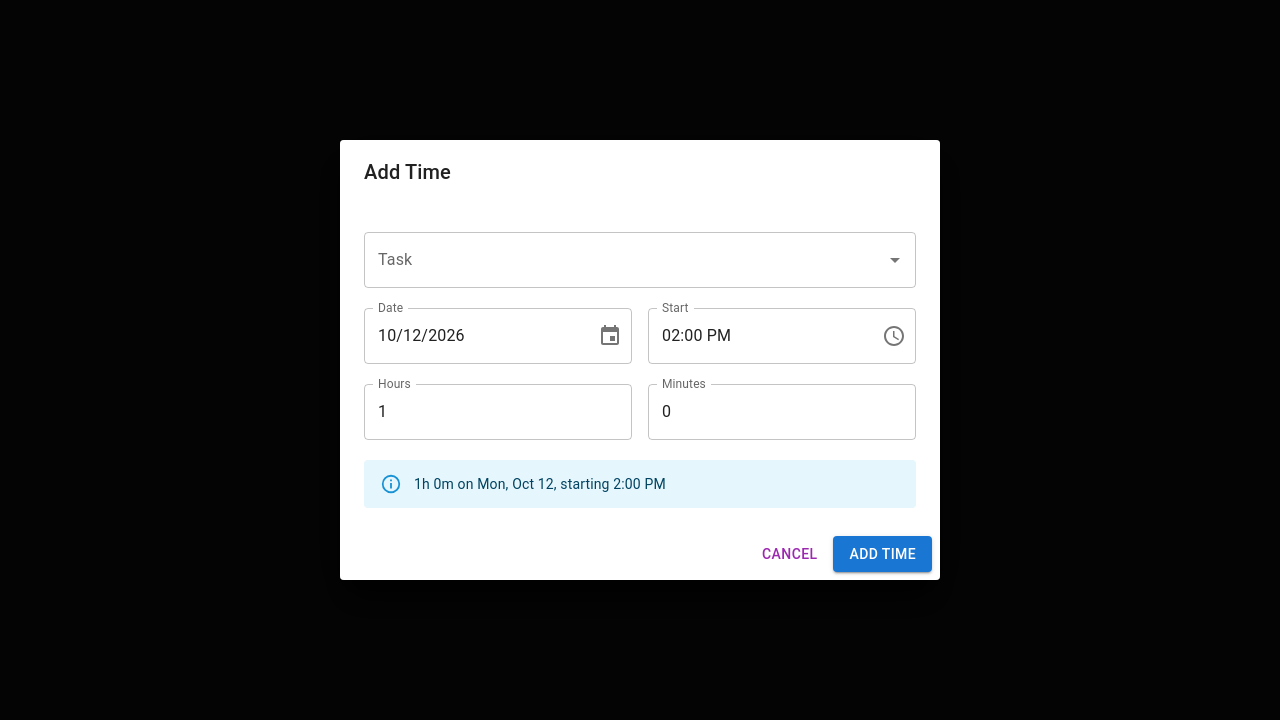
Scenario: AddTimeDialog › shows the reason in place when the entry is refused
Press the mouse on the dropdown labelled "Task" at x=625, y=260, box [373, 241, 877, 279]
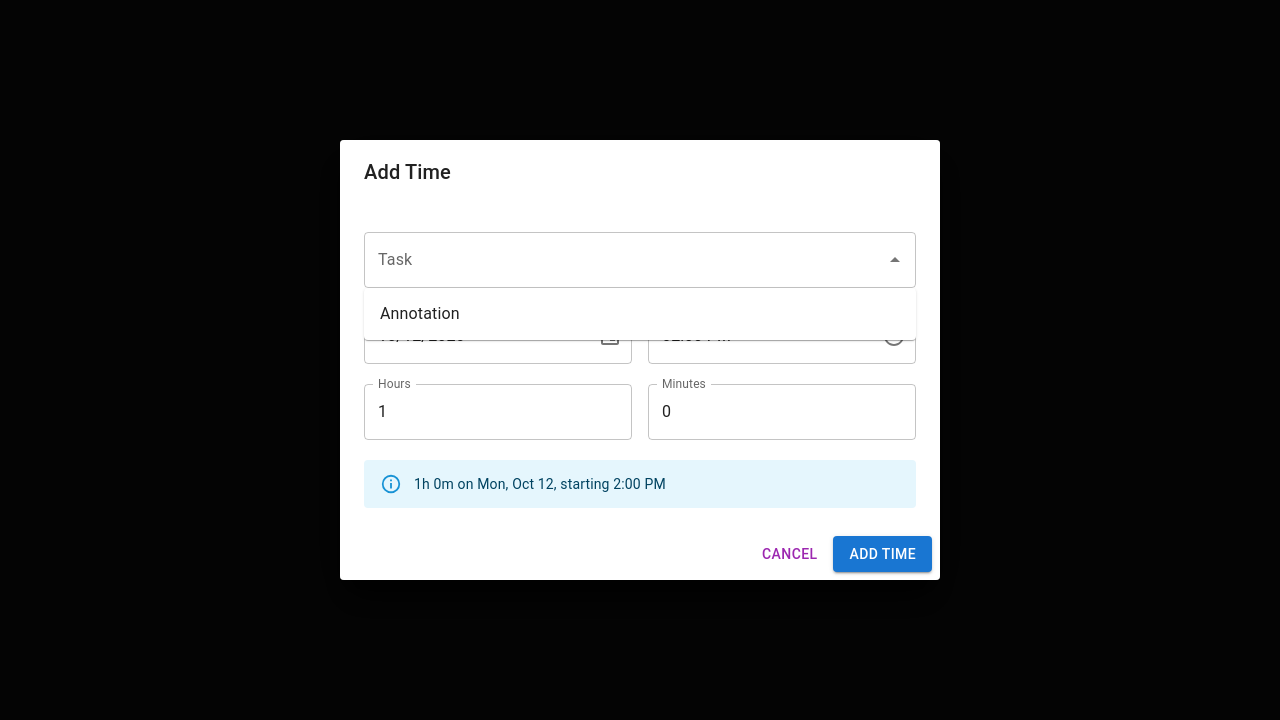
Click the option "Annotation". click: x=420, y=314
box: [380, 304, 460, 323]
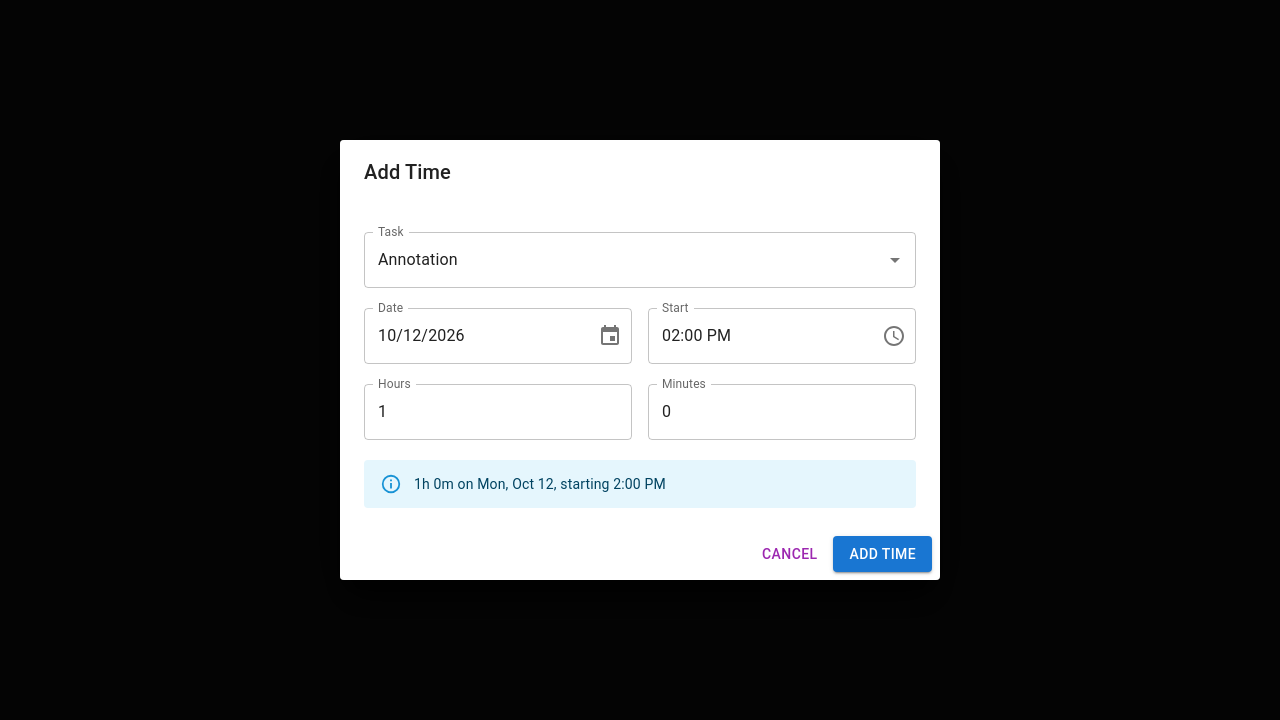
Click the button "Add Time". click: x=883, y=554
box: [834, 536, 932, 572]
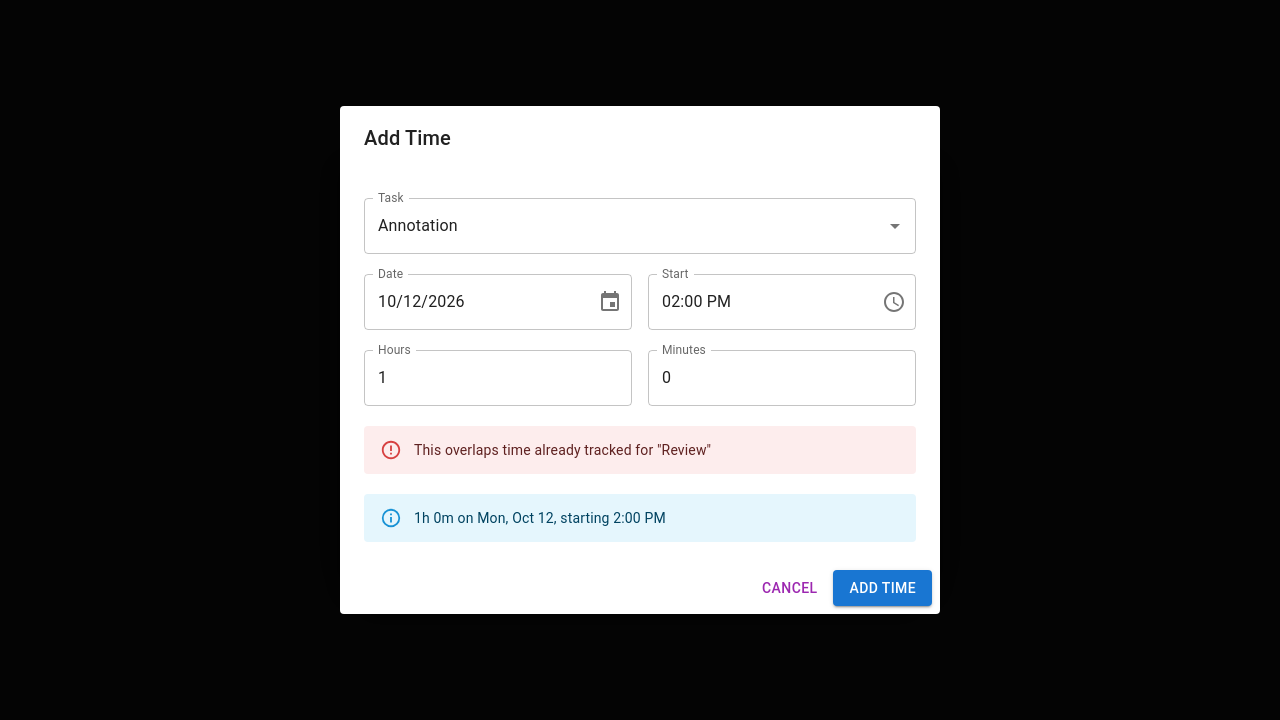
Expected: the text "This overlaps time already tracked for \"Review\"" is shown, [414, 442, 711, 458]
